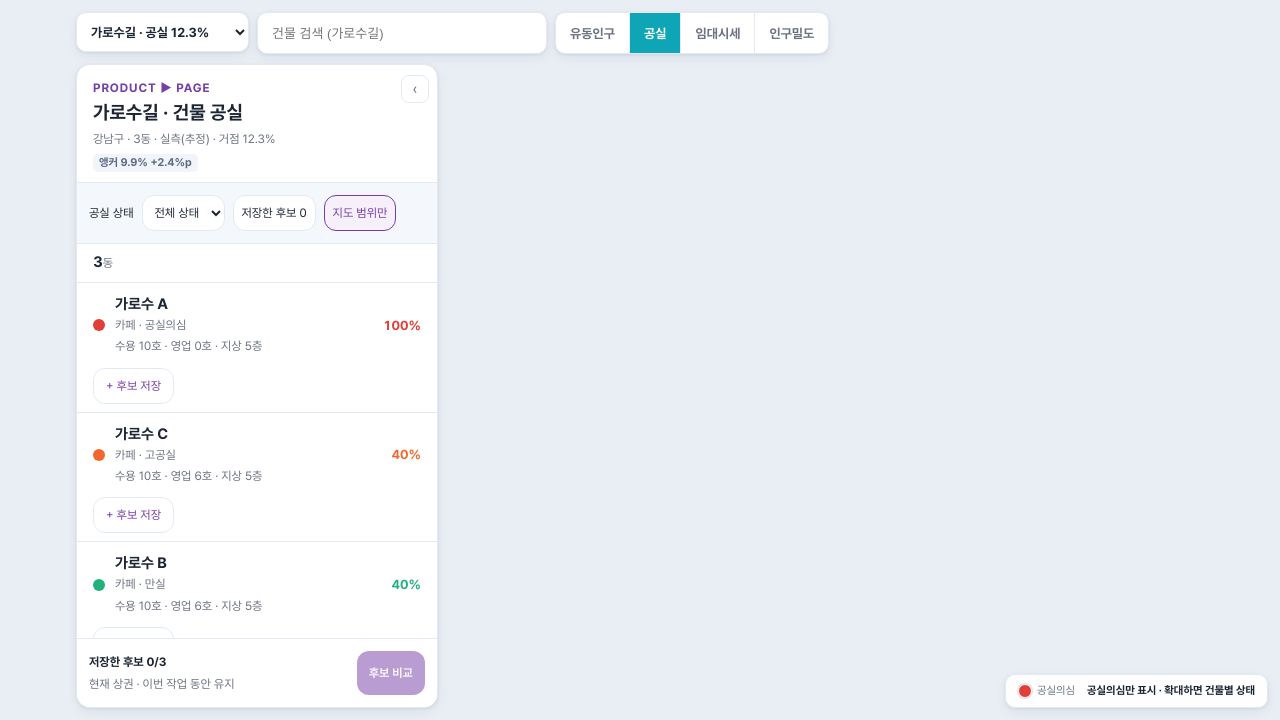
Scenario: MapShell — 후보 탐색과 비교 › 거점별 후보를 섞지 않고 원래 거점으로 돌아오면 저장 상태를 복원한다
This screenshot has width=1280, height=720.
Click the button with aria-label "가로수 A 후보 저장" at (134, 386), box [93,368,174,404]
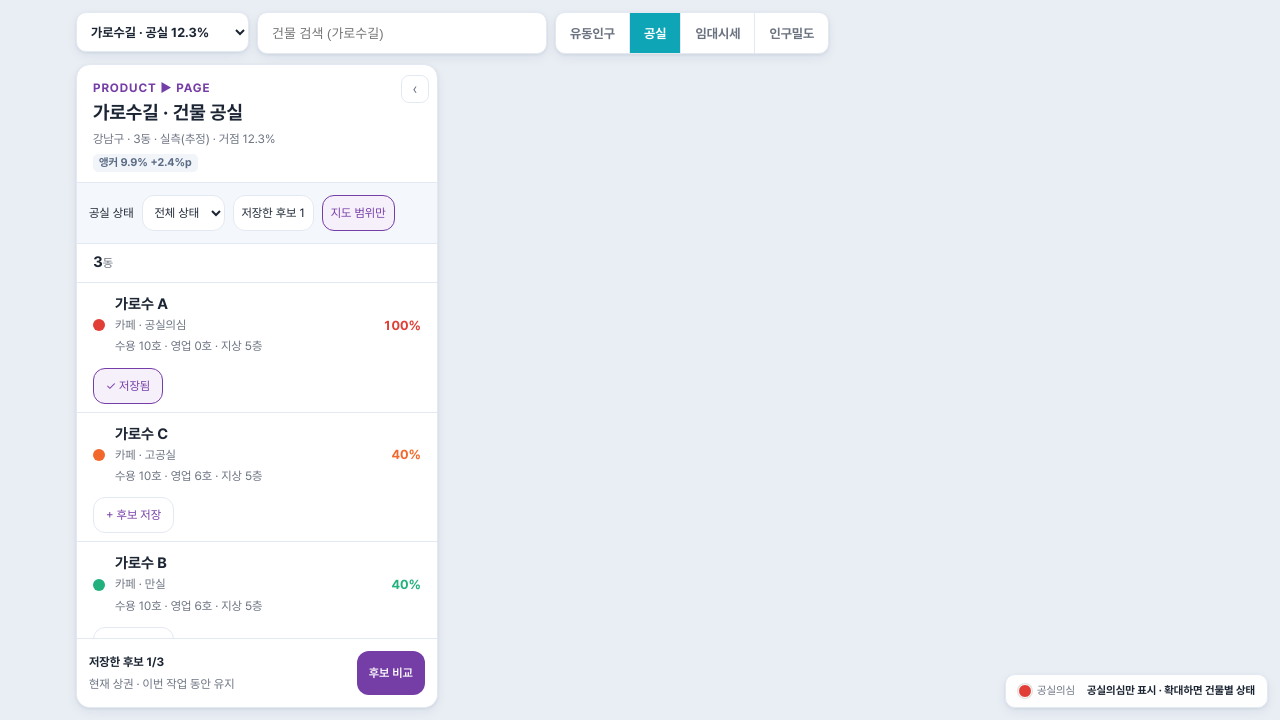
Select "연남동 · 공실 12.3%" in the dropdown named "상권 선택" at (162, 32), box [76,12,249,52]
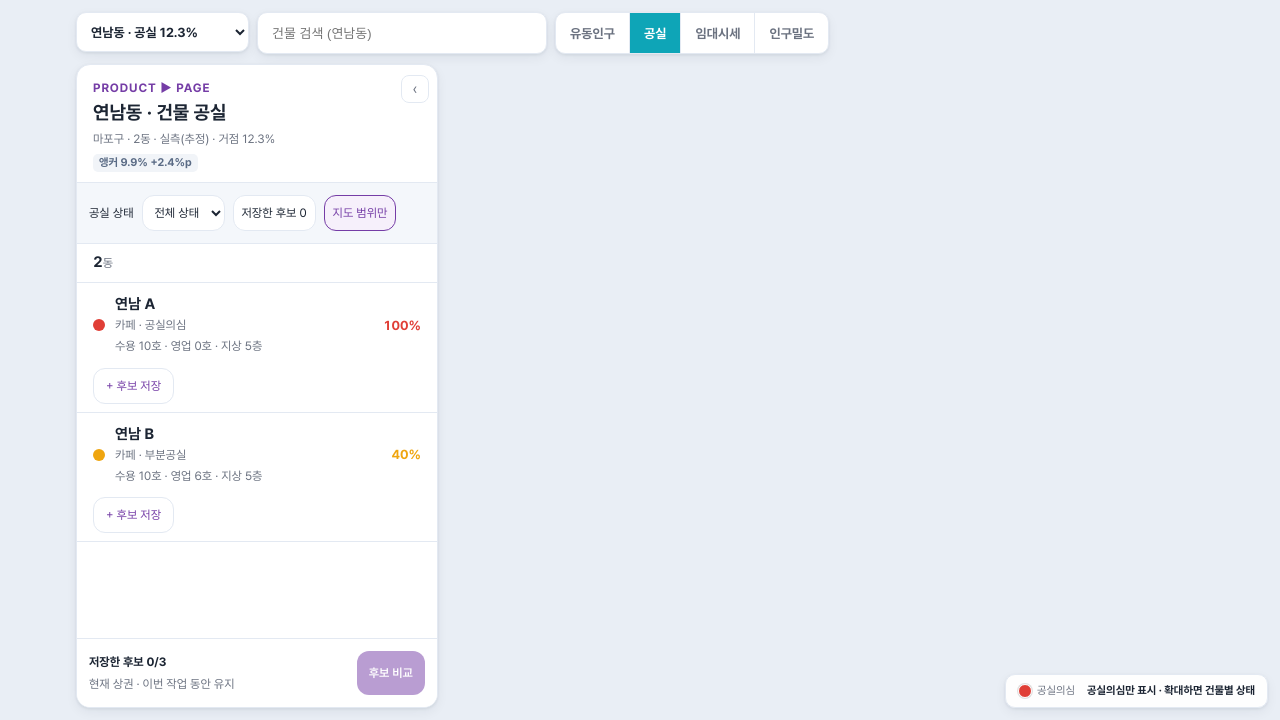
Check: the text "연남 A" is shown, box [115,295,155,313]
Check: the text "저장한 후보 0/3" is shown, box [89,655,166,669]
Select "가로수길 · 공실 12.3%" in the dropdown named "상권 선택" at (162, 32), box [76,12,249,52]
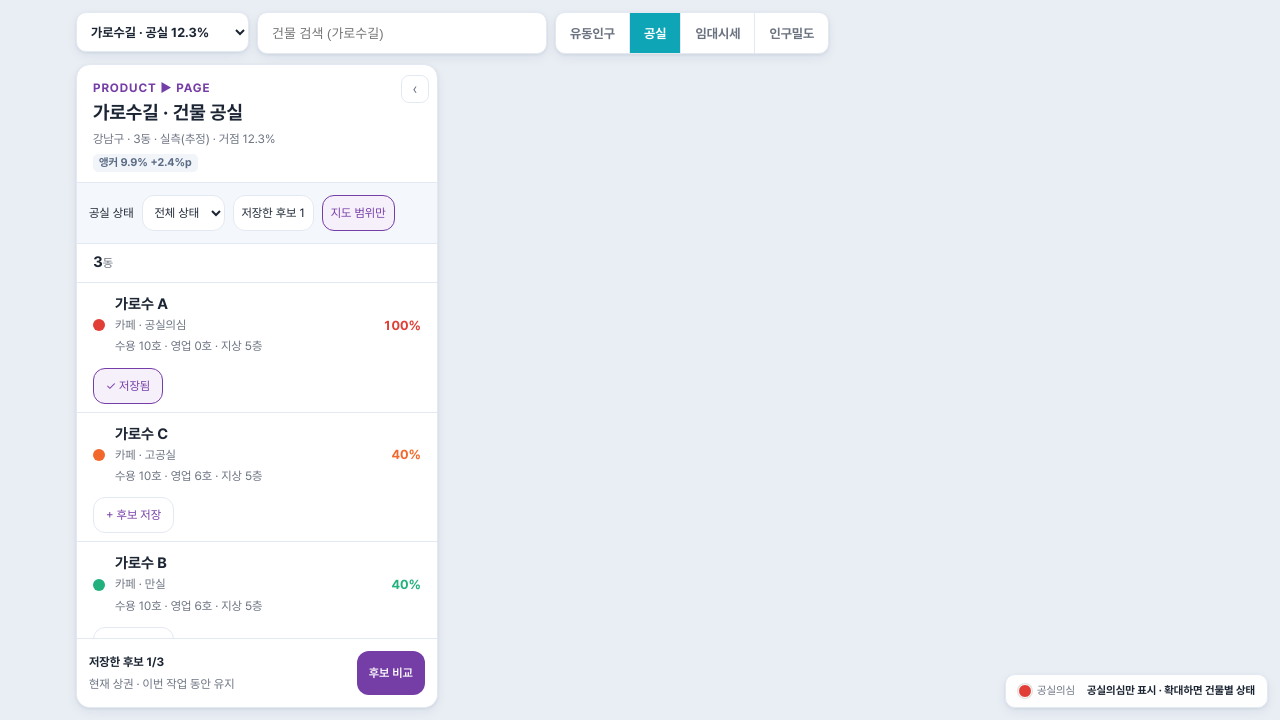
Check: the button with aria-label "가로수 A 후보 해제" is shown, box [93,368,163,404]
